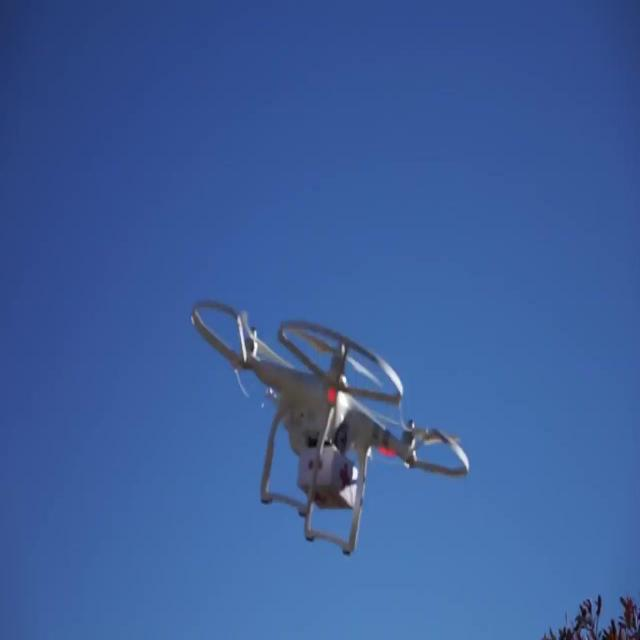UAV: (190, 298, 470, 556)
